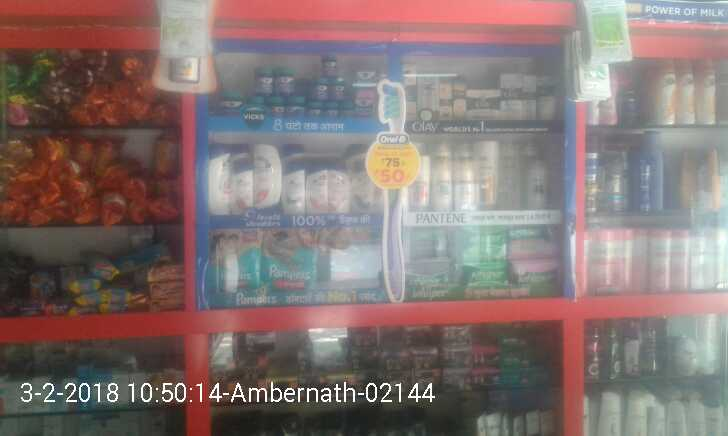beauty: (247, 142, 284, 217), (207, 142, 231, 213), (480, 134, 504, 204), (273, 164, 304, 217), (428, 148, 453, 211), (468, 85, 508, 124), (226, 162, 250, 219), (528, 75, 557, 122), (303, 161, 328, 213), (452, 151, 474, 208), (501, 71, 523, 124), (328, 165, 351, 214), (525, 160, 549, 202)
pharmacy: (204, 223, 261, 296), (259, 228, 320, 292), (500, 219, 562, 259), (449, 220, 503, 262), (507, 260, 568, 296), (461, 259, 507, 291), (272, 67, 301, 97), (304, 75, 331, 102), (334, 75, 352, 110), (254, 61, 273, 94), (314, 51, 341, 74)
